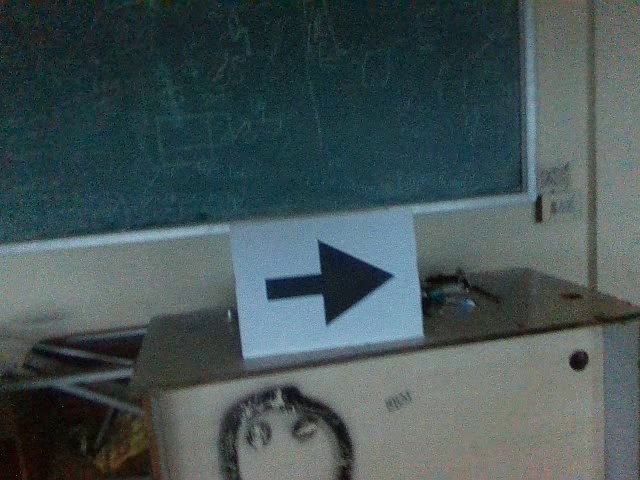Right: (257, 232, 399, 334)
